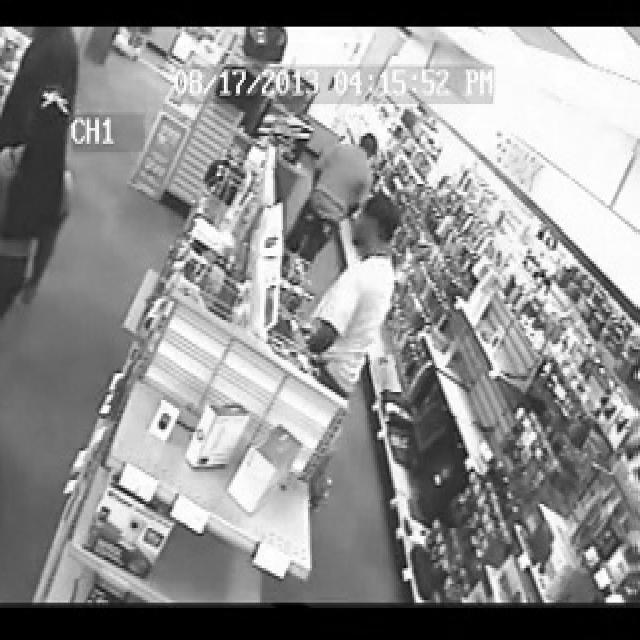Normal: (3, 27, 639, 606)
